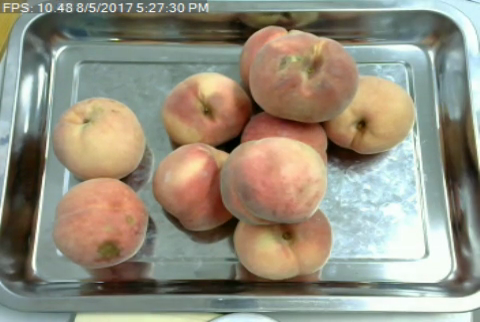Peach: (220, 136, 325, 225), (250, 33, 356, 121), (52, 176, 148, 268), (53, 95, 147, 181), (320, 70, 415, 155), (232, 205, 332, 278), (161, 69, 253, 148), (154, 143, 232, 232)
